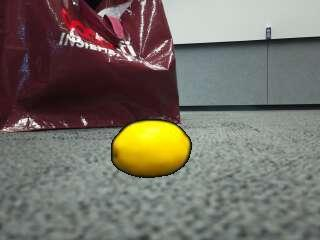lemon: (111, 122, 189, 178)
